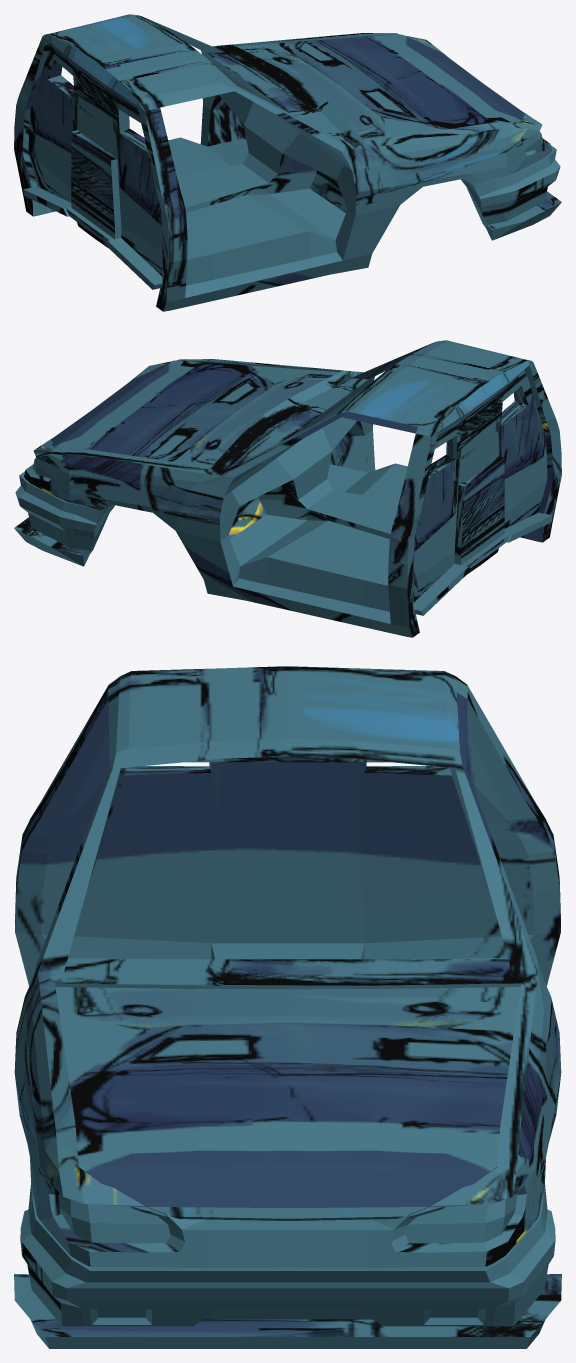
The model's file is 2115game.fbx.
3 views of the same model, one above another, from view 1: azimuth 30°, elevation 25°; view 2: azimuth 150°, elevation 25°; view 3: azimuth 270°, elevation 25° (orthographic). The views are drawn at different scales.
Parts seen in each view (by area): view 1: Cube; view 2: Cube; view 3: Cube.
Boxes of the visible parts, box(x1,y1,x2,y2) form: Cube: box(14, 14, 561, 311); Cube: box(14, 340, 561, 637); Cube: box(14, 666, 561, 1348).
Size of the model in its own units: 244 by 116 by 159.
Materials: 1 (1 with a texture image).
